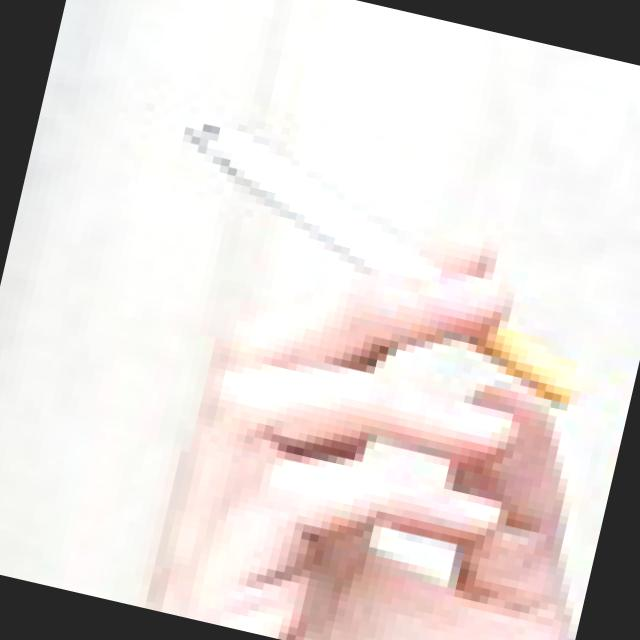smoke: (144, 104, 448, 282)
